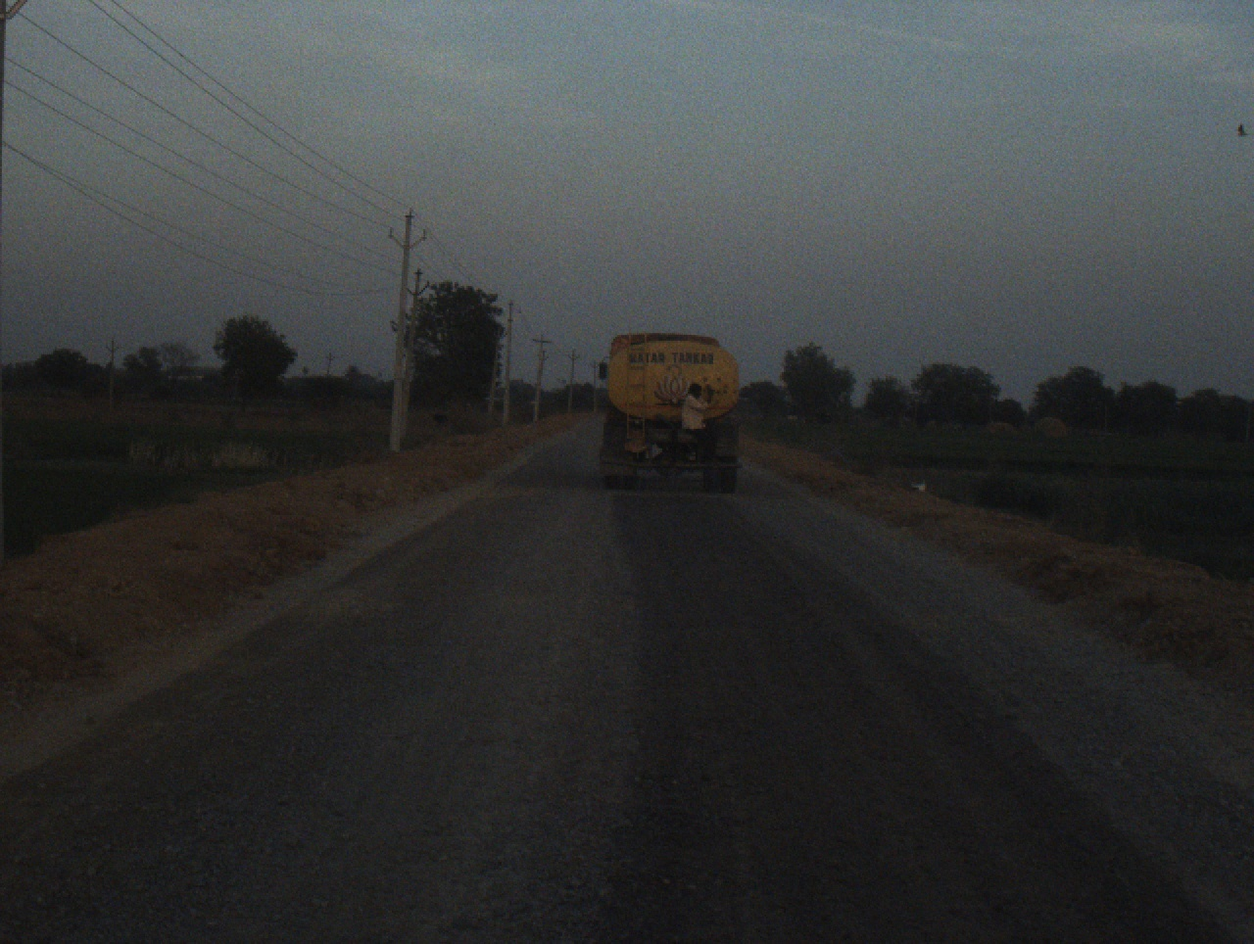truck: (596, 329, 737, 502)
